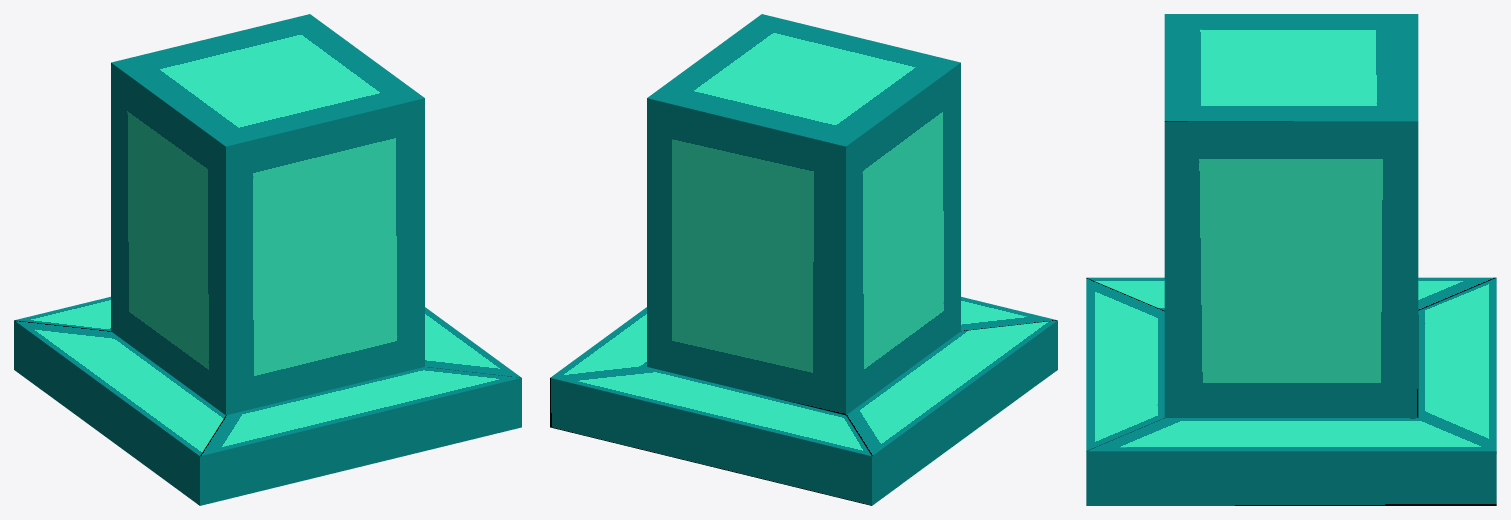
File: tophat.glb
3 renders of one model, left to right at view 1: azimuth 30°, elevation 25°; view 2: azimuth 150°, elevation 25°; view 3: azimuth 270°, elevation 25°, orthographic. The views are drawn at different scales.
Visible parts, largest first — view 1: Cube; view 2: Cube; view 3: Cube.
Boxes of the visible parts, left/top/right/bottom form: Cube: left=14, top=14, right=521, bottom=505; Cube: left=550, top=14, right=1057, bottom=505; Cube: left=1086, top=14, right=1496, bottom=505.
Size of the model in its own units: 1.07 by 1.01 by 1.07.
Materials: 1 (1 with a texture image).
